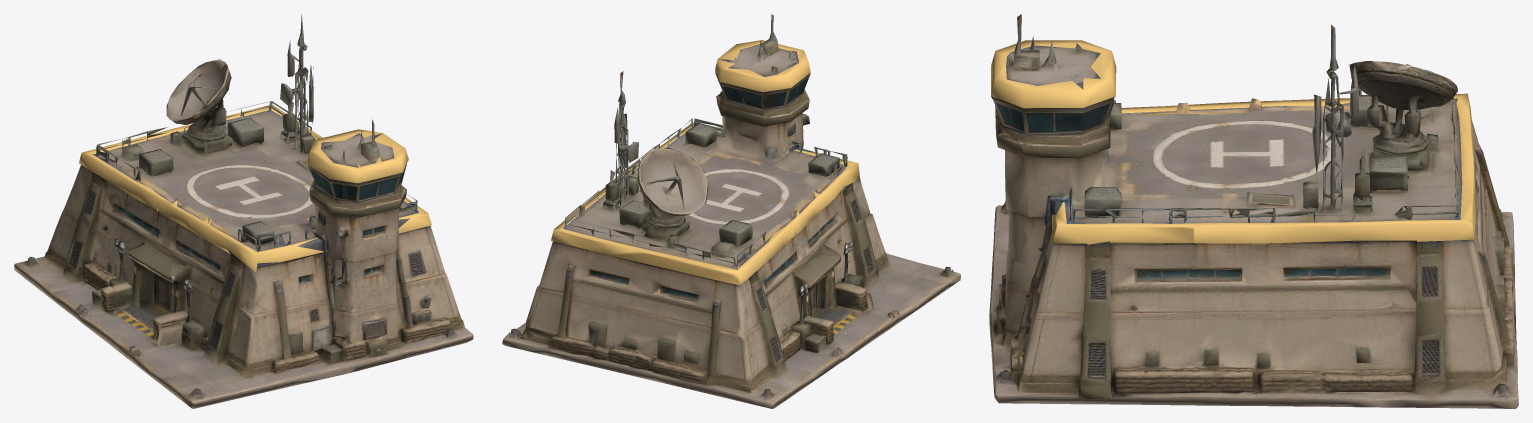
File: command_center.glb
The picture shows the model from 3 angles, left to right: view 1: azimuth 30°, elevation 25°; view 2: azimuth 150°, elevation 25°; view 3: azimuth 270°, elevation 25°; orthographic projection. The views are drawn at different scales.
Visible parts, largest first — view 1: Model; view 2: Model; view 3: Model.
Part boxes in pixels (x1,y1,x2,y2): Model: (14, 14, 473, 408); Model: (502, 14, 960, 408); Model: (989, 14, 1518, 408).
Bounding box in the file's own units: 1.74 × 1.44 × 2.
2 materials, 1 textured.
